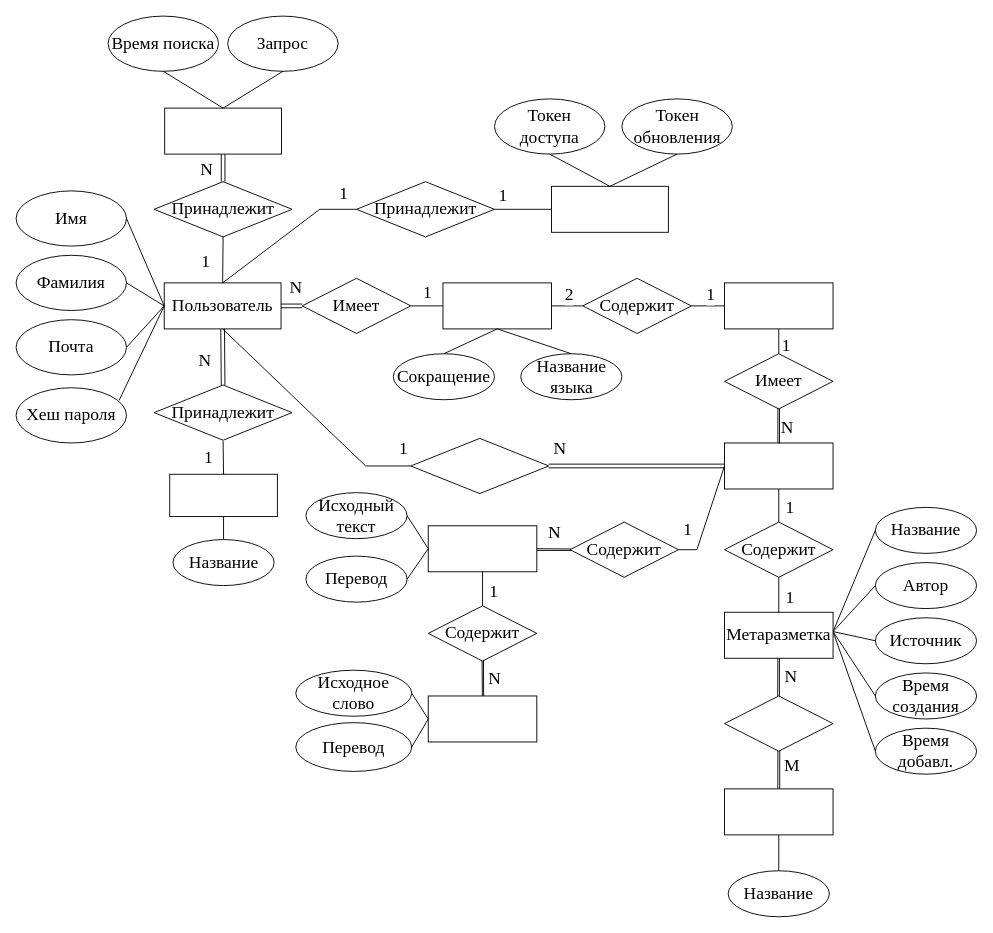
This 993x933 diagram has some shape labels left out. The shapes that lost their labels are listed below. From the top down, each one's centre as x and y in pixels, then its label:
(223,130): История поиска
(609,208): Реквизиты
(497,305): Язык
(778,305): Языковая пара
(479,465): Добавляет
(778,465): Текст
(223,495): Страна
(482,548): Предложение
(482,718): Токен
(778,723): Включает
(778,811): Жанр
